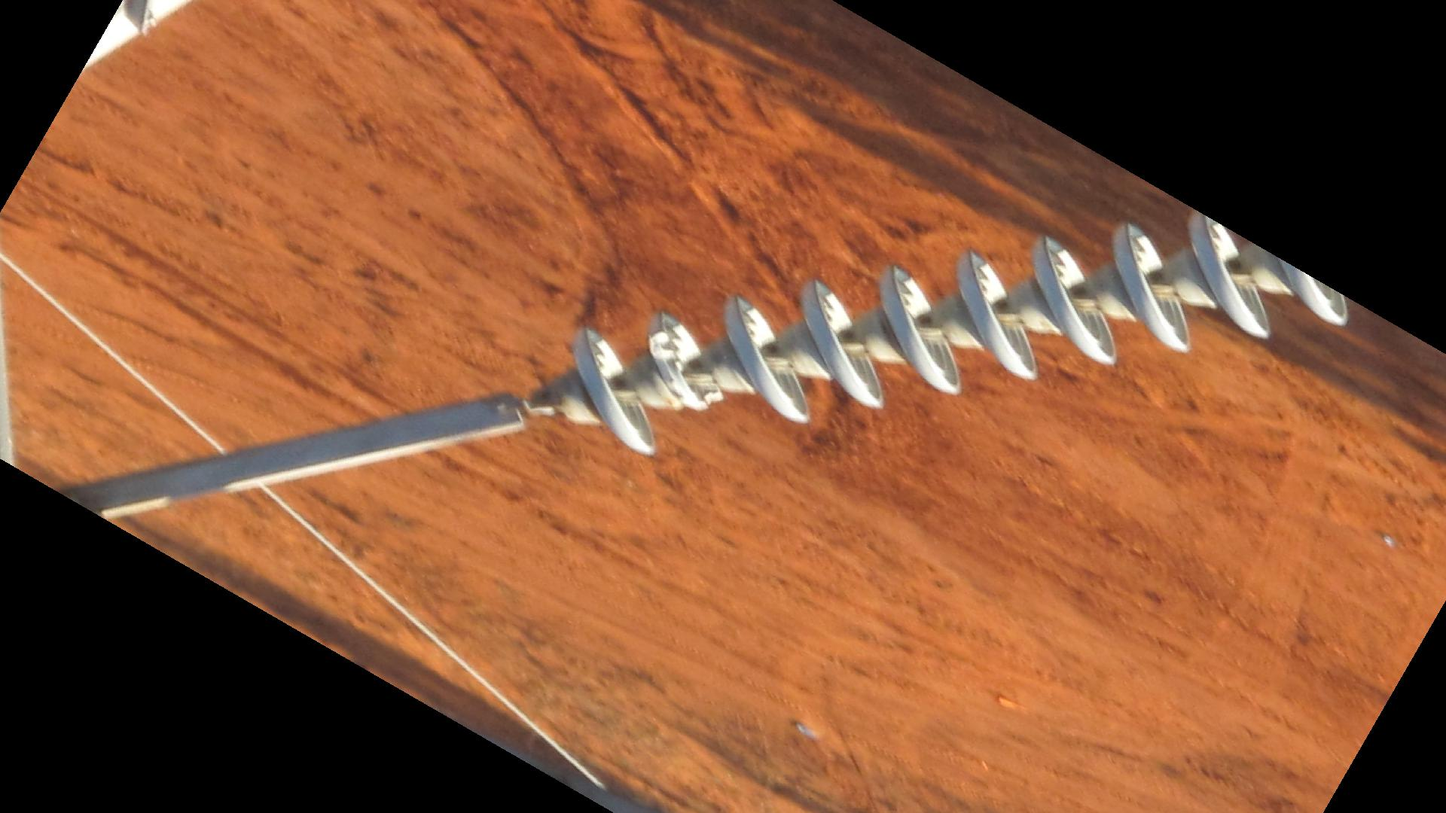insulator: (566, 201, 1361, 467)
insulator_breakage: (649, 325, 728, 415)
